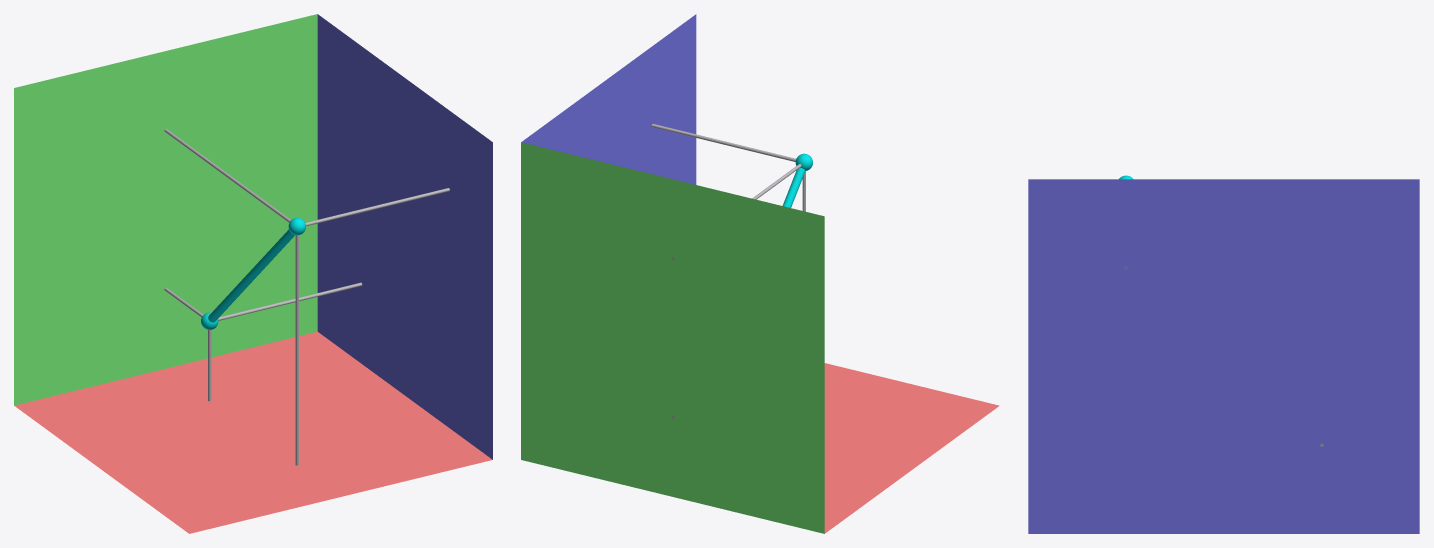
File: otrezok.glb
3 views of the same model, side by side, from view 1: azimuth 30°, elevation 25°; view 2: azimuth 150°, elevation 25°; view 3: azimuth 270°, elevation 25° (orthographic). The views are drawn at different scales.
Visible parts, largest first — view 1: Plane.001, Plane.002, Plane, line_mesh, Cylinder, Cylinder.002, proj_B, proj_A; view 2: Plane.001, Plane, Plane.002, proj_B; view 3: Plane.002.
Part boxes in pixels (x1=…): Plane.001: x1=14, y1=14, x2=317, y2=405; Plane.002: x1=317, y1=14, x2=492, y2=459; Plane: x1=14, y1=331, x2=492, y2=533; line_mesh: x1=208, y1=229, x2=294, y2=322; Cylinder: x1=295, y1=235, x2=298, y2=465; Cylinder.002: x1=164, y1=129, x2=290, y2=222; proj_B: x1=305, y1=188, x2=449, y2=226; proj_A: x1=218, y1=282, x2=362, y2=320; Plane.001: x1=521, y1=142, x2=824, y2=533; Plane: x1=824, y1=363, x2=999, y2=533; Plane.002: x1=521, y1=14, x2=696, y2=184; proj_B: x1=651, y1=124, x2=795, y2=161; Plane.002: x1=1028, y1=179, x2=1419, y2=533.
Size of the model in its own units: 4 by 4 by 4.
